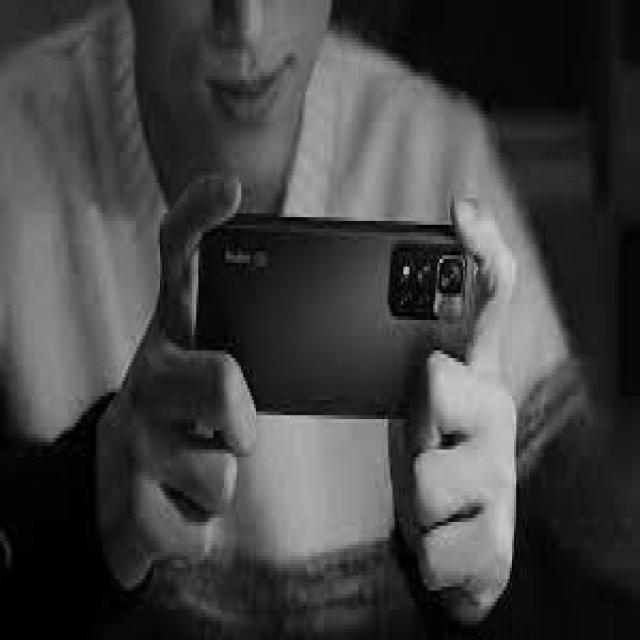No gun_phone: (198, 213, 475, 418)
